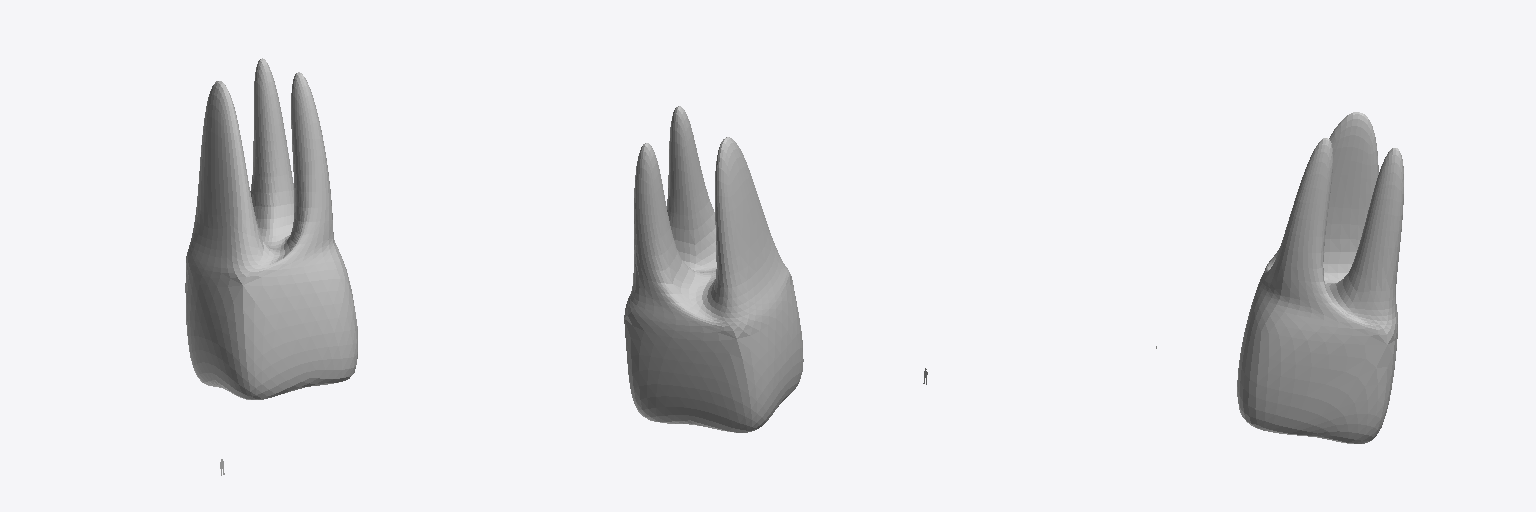
3 views of the same model, side by side, from view 1: azimuth 30°, elevation 25°; view 2: azimuth 150°, elevation 25°; view 3: azimuth 270°, elevation 25° (orthographic).
Visible parts, largest first — view 1: Mesh1 Group1 Model; view 2: Mesh1 Group1 Model; view 3: Mesh1 Group1 Model.
Boxes of the visible parts, x1,y1,x2,y2 form: Mesh1 Group1 Model: [185, 58, 357, 399]; Mesh1 Group1 Model: [624, 106, 803, 432]; Mesh1 Group1 Model: [1237, 112, 1403, 443].
Size of the model in its own units: 22.14 by 32.53 by 24.29.